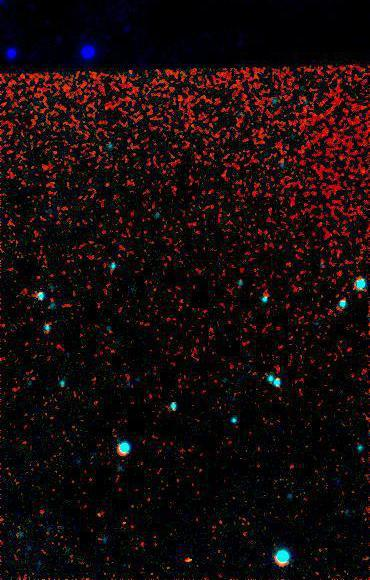star: (175, 546, 205, 576)
